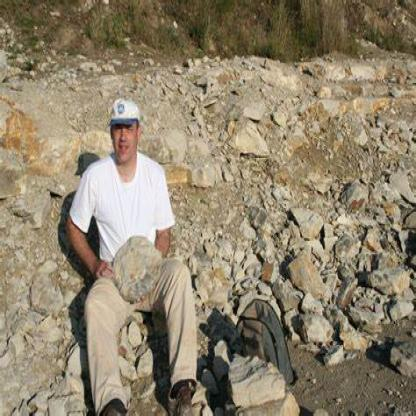person: (59, 84, 214, 412)
